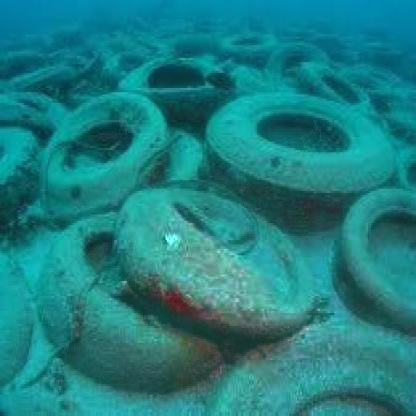tire: (26, 214, 209, 406), (206, 84, 404, 240), (135, 193, 318, 350), (35, 86, 185, 218), (329, 172, 416, 345), (111, 20, 242, 122)
